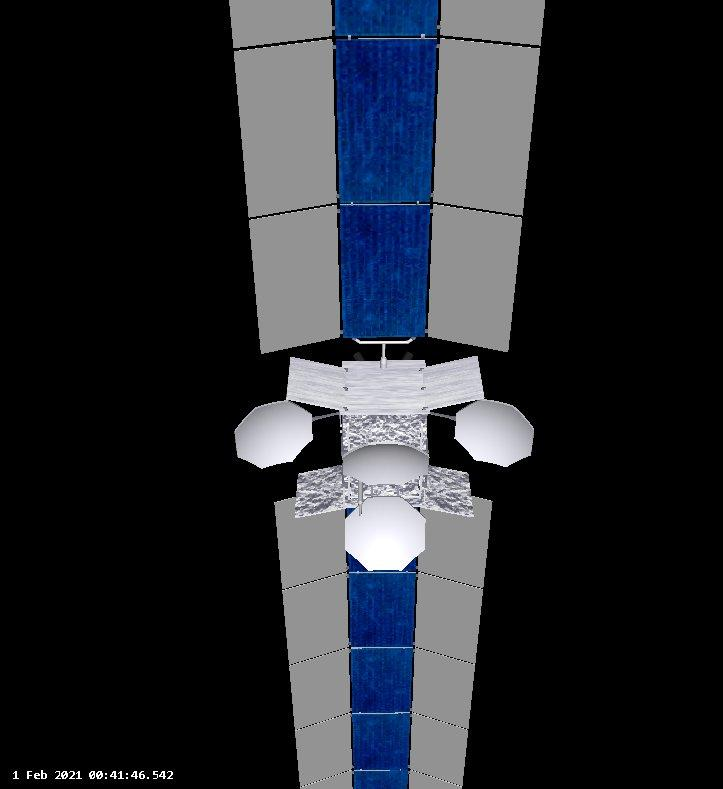antenna: (342, 494, 429, 573), (231, 398, 315, 471), (453, 398, 536, 470), (340, 439, 432, 488)
body: (340, 358, 431, 476)
solar: (222, 0, 550, 358), (270, 493, 496, 789)
thruster: (351, 350, 365, 363), (401, 350, 417, 361)
